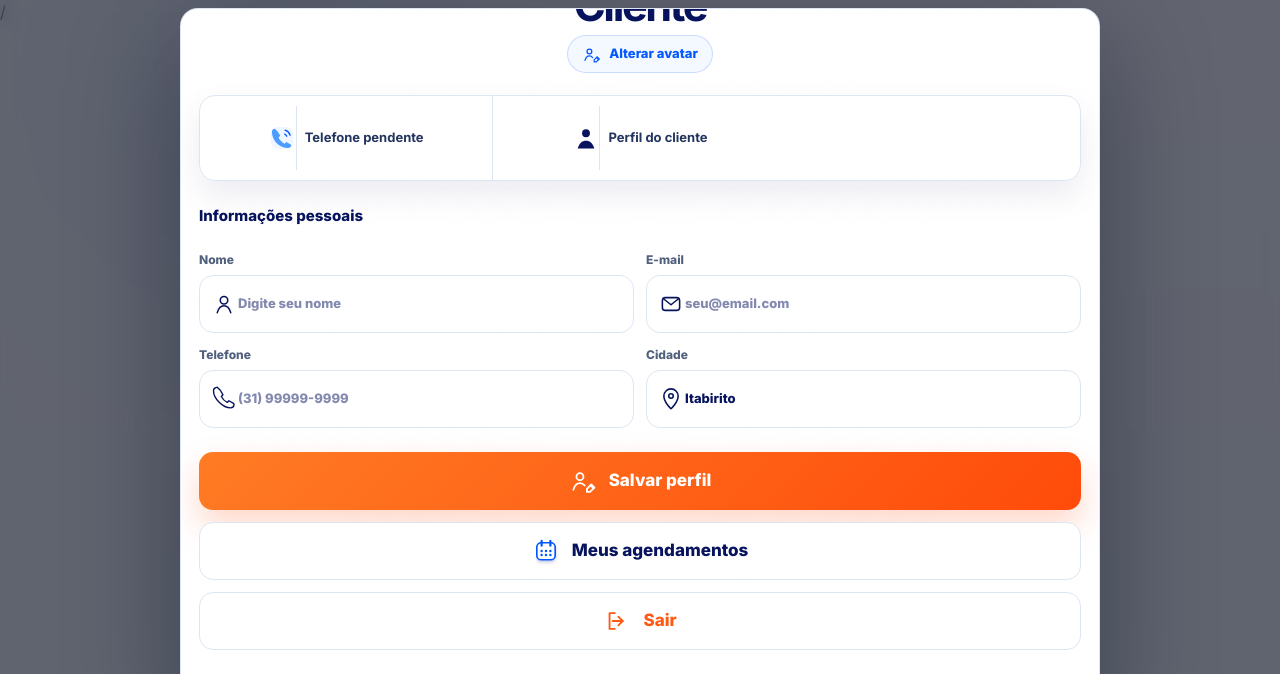
Test: CalendarMate admin password profile flow › keeps role selection available when providers cannot be loaded
(page scrolled)
Type "31999999999" into the field labelled "Telefone" at (436,399), box [238, 380, 633, 418]
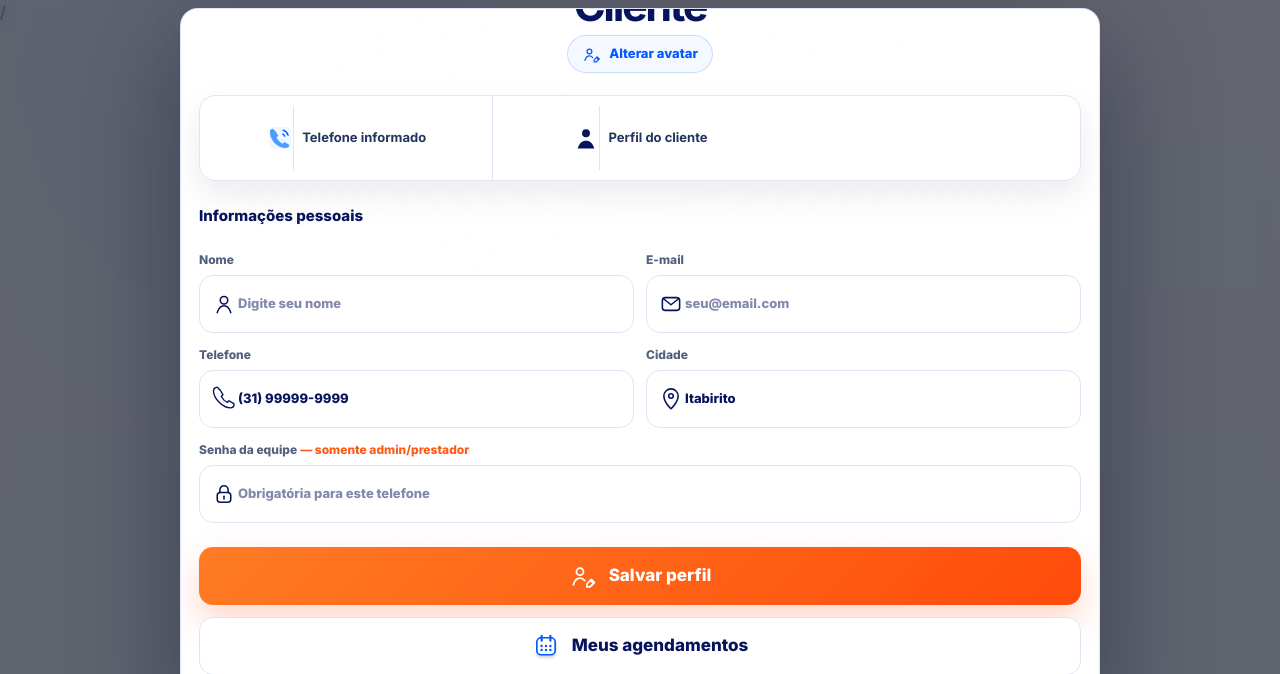
Type "team-password" into the password field labelled "Senha da equipe" at (659,494), box [238, 475, 1080, 513]
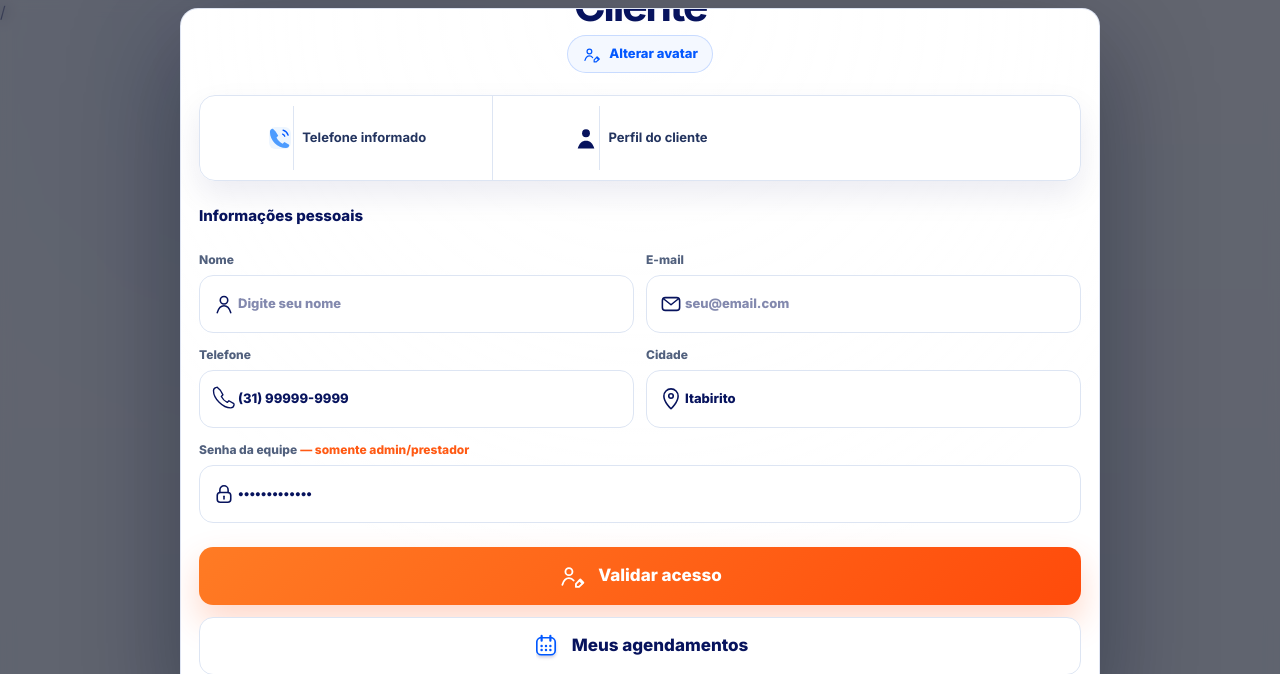
Click the button "Validar acesso" at (640,576), box [199, 547, 1081, 605]
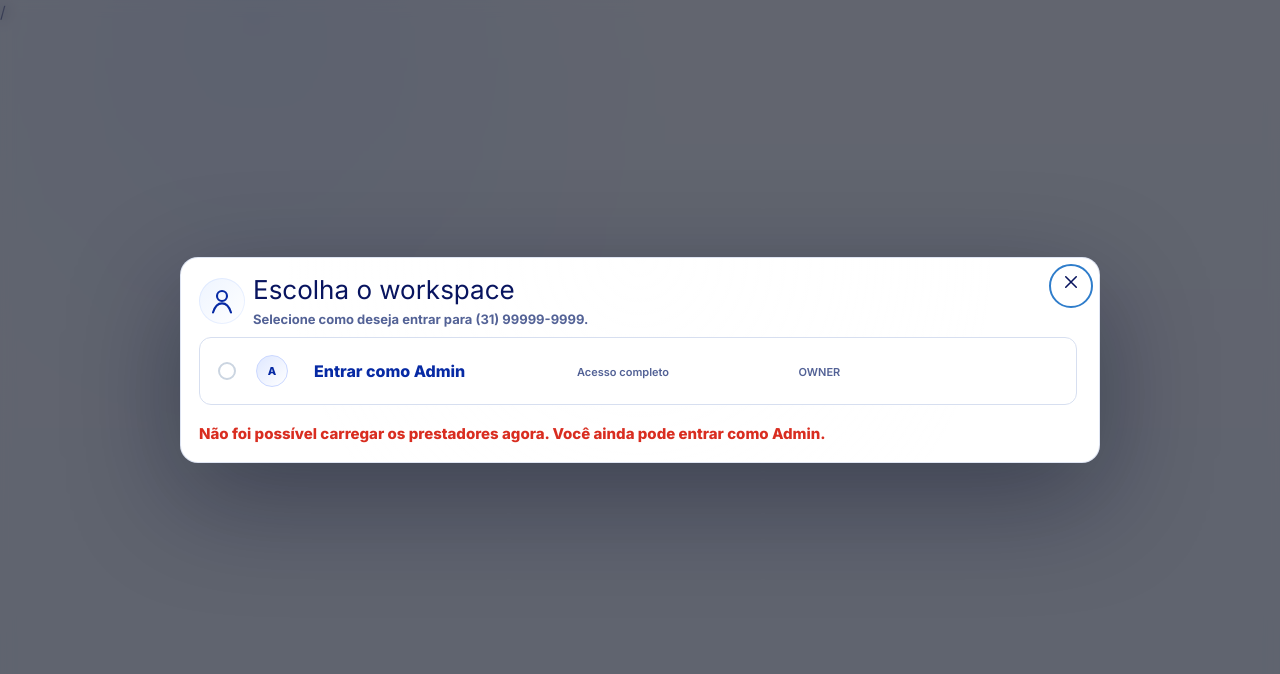
Result: the heading "Escolha o workspace" is shown at [253, 274, 515, 305]
Result: the text "Não foi possível carregar os prestadores agora. Você ainda pode entrar como Admin." is shown at [199, 424, 826, 443]
Result: the button "A Entrar como Admin Acesso completo OWNER" is shown at [199, 337, 1077, 405]
